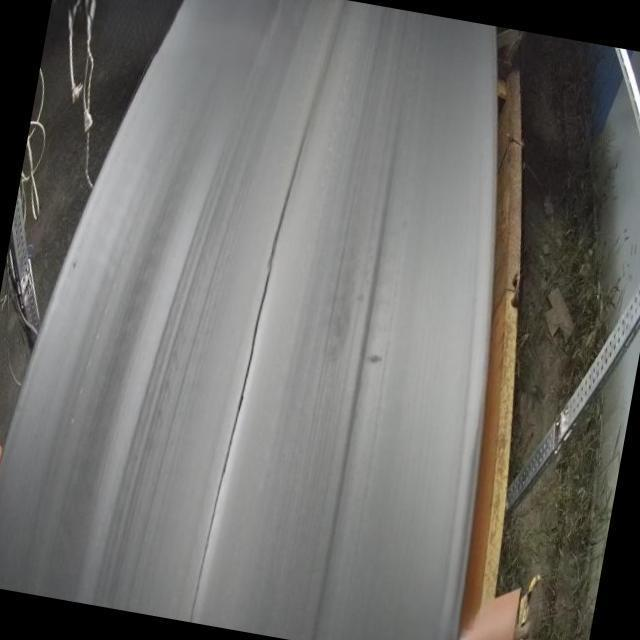Tear: (187, 123, 312, 628)
